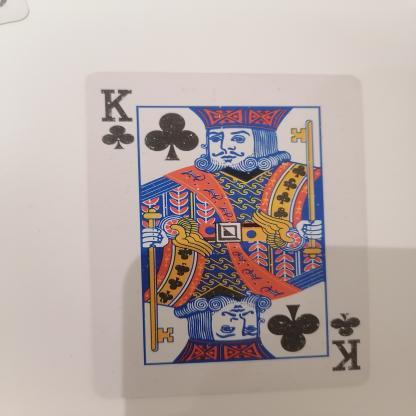KC: (92, 85, 139, 151), (325, 310, 369, 378)
